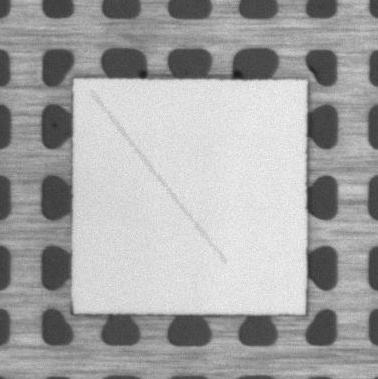DIE_CRACK: (92, 93, 225, 263)
